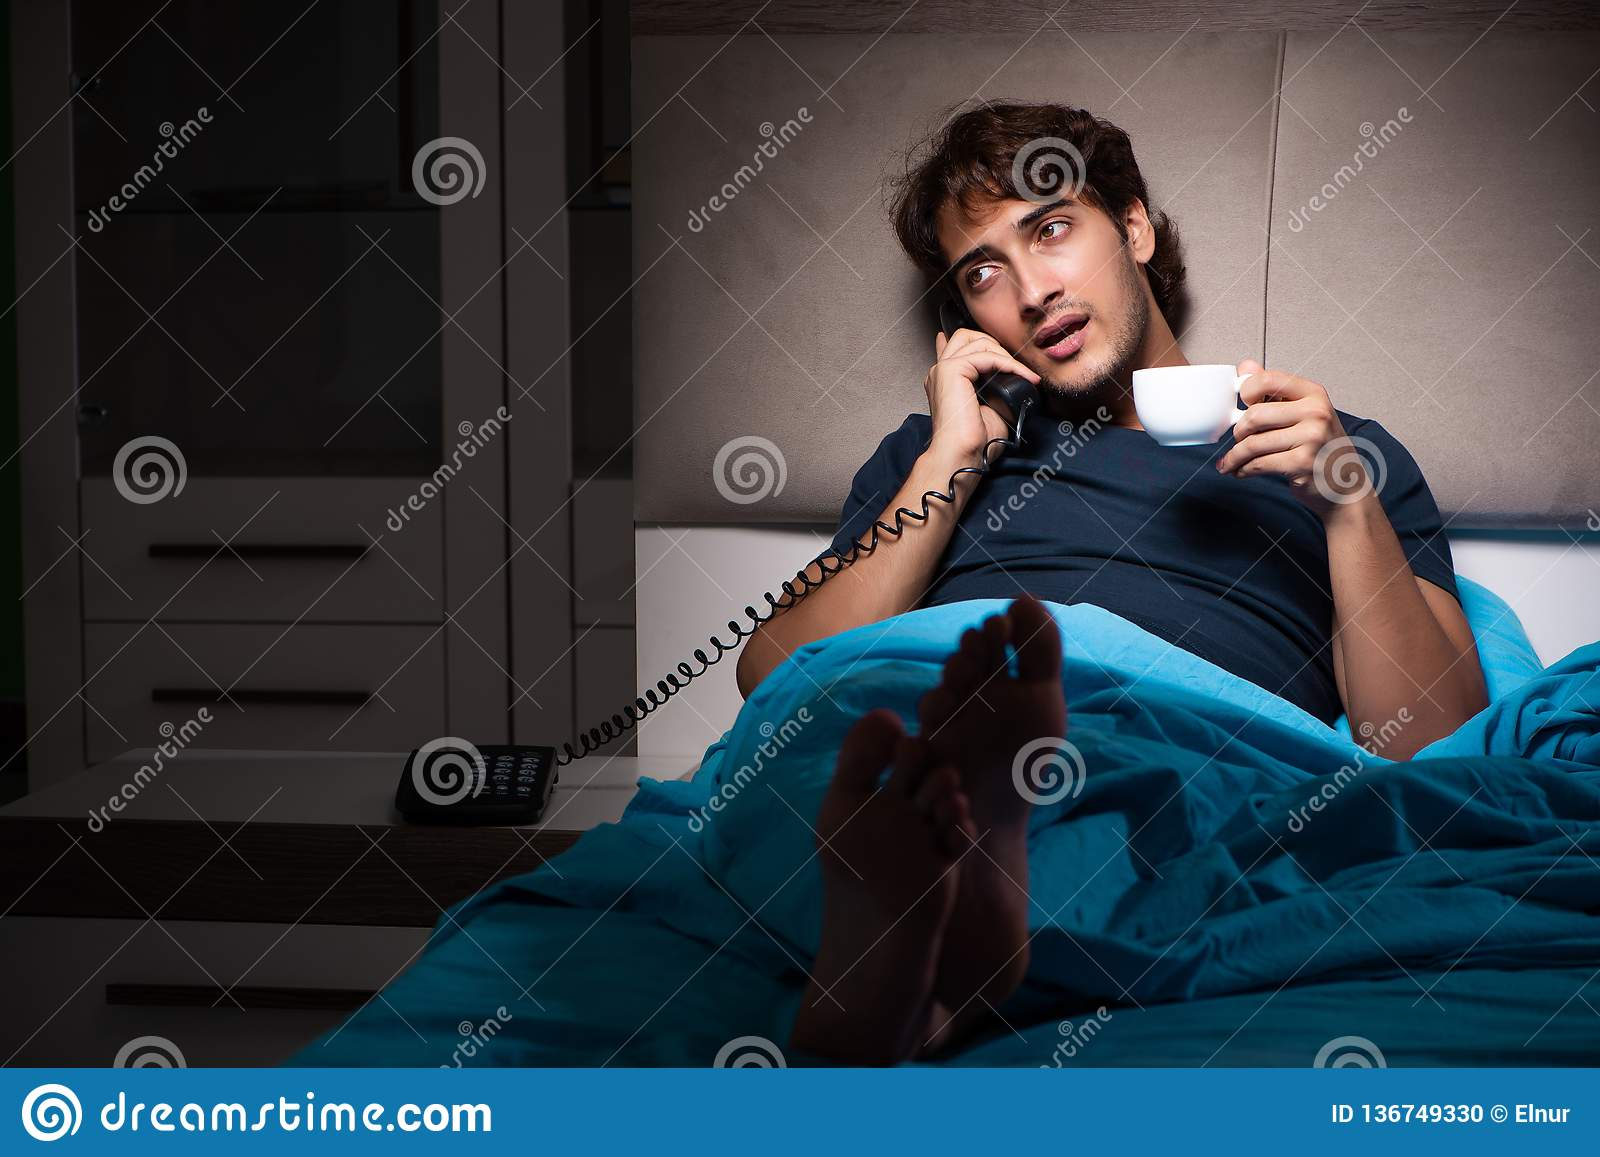phone: (935, 290, 1043, 428)
talk: (907, 188, 1113, 472)
